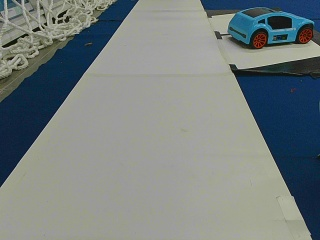car: (227, 9, 313, 48)
